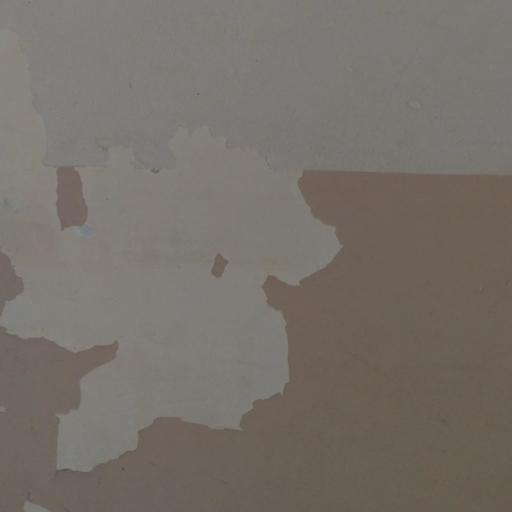peeling: (0, 17, 350, 492), (21, 483, 73, 511)
